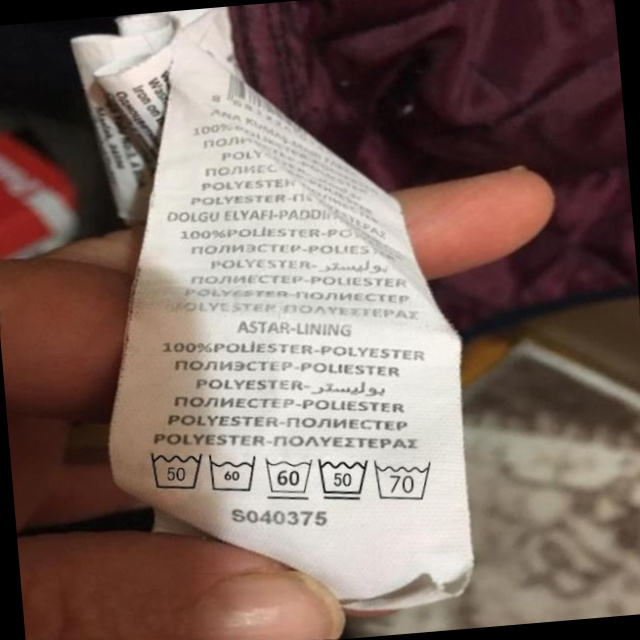50C: (141, 440, 210, 499), (312, 451, 375, 507)
60C: (260, 449, 320, 505), (203, 447, 264, 500)
70C: (371, 453, 441, 507)
